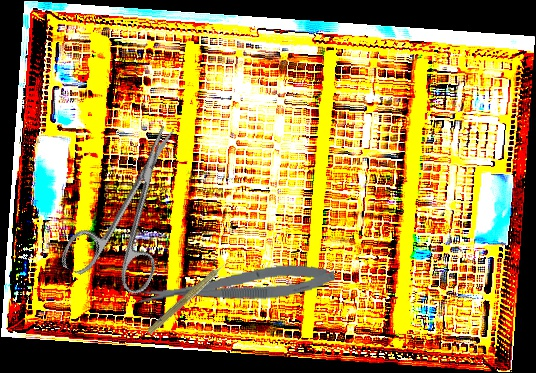Handpiece: (144, 254, 237, 339)
Iris Scissors: (57, 110, 213, 303)
Micro Scissor: (137, 259, 337, 311)
